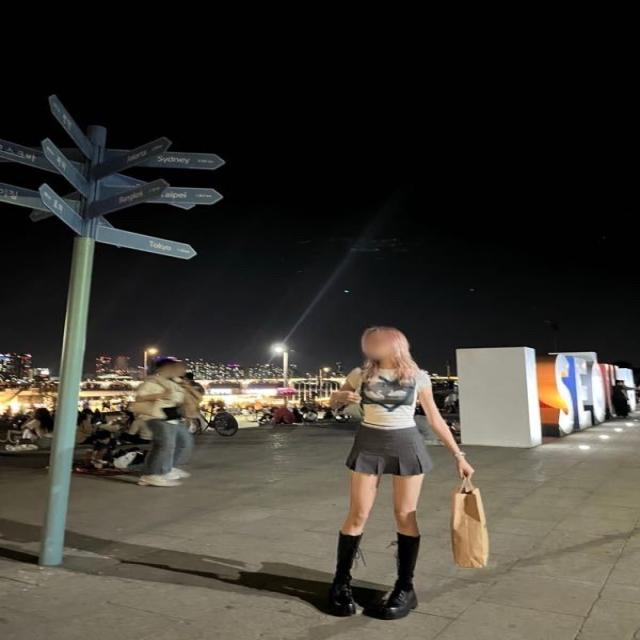shortsleeve: (348, 363, 425, 429)
skirt: (348, 424, 436, 477)
